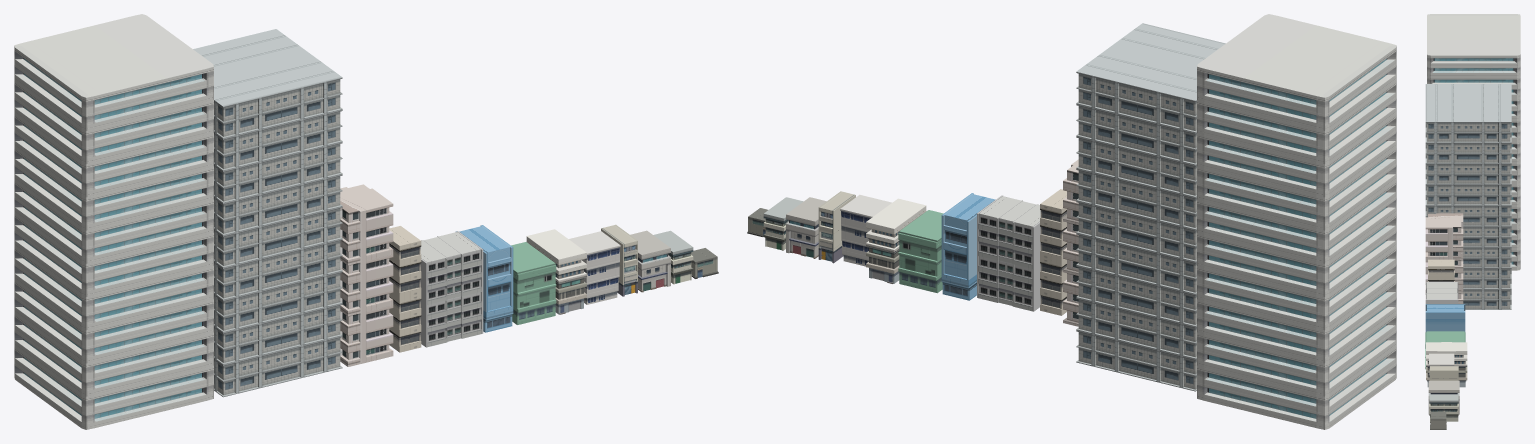
Rendered from Building_Asset_Pack_1.fbx.
3 views of the same model, side by side, from view 1: azimuth 30°, elevation 25°; view 2: azimuth 150°, elevation 25°; view 3: azimuth 270°, elevation 25° (orthographic). The views are drawn at different scales.
Parts seen in each view (by area): view 1: Building.001, Building.005, Building.002, Building.003, Building.006, Building.007, Building.004, Building.009, Building, Building.010, Cube, Building.011 (+1 smaller); view 2: Building.001, Building.005, Building.003, Building.007, Building.004, Building.006, Building.009, Building.002, Building, Building.010, Cube, Building.011; view 3: Building.005, Building.001, Building.002, Building.007, Building.009, Building.003, Building.011, Building.006, Building.010, Building.004, Cube, Building (+1 smaller).
Part boxes in pixels (<box>): Building.001: <box>14,14,213,429</box>; Building.005: <box>193,29,342,397</box>; Building.002: <box>340,184,393,366</box>; Building.003: <box>420,231,483,347</box>; Building.006: <box>389,226,421,352</box>; Building.007: <box>455,225,513,332</box>; Building.004: <box>511,242,556,324</box>; Building.009: <box>526,229,586,314</box>; Building: <box>569,231,620,304</box>; Building.010: <box>630,230,670,292</box>; Cube: <box>601,224,637,296</box>; Building.011: <box>653,230,693,284</box>; Building.001: <box>1197,14,1396,429</box>; Building.005: <box>1076,23,1225,391</box>; Building.003: <box>977,195,1040,311</box>; Building.007: <box>941,193,995,300</box>; Building.004: <box>898,210,943,293</box>; Building.006: <box>1040,189,1066,315</box>; Building.009: <box>866,198,926,283</box>; Building.002: <box>1063,159,1078,326</box>; Building: <box>840,194,891,266</box>; Building.010: <box>786,197,826,258</box>; Cube: <box>818,191,855,263</box>; Building.011: <box>763,197,803,250</box>; Building.005: <box>1425,84,1511,309</box>; Building.001: <box>1427,14,1520,270</box>; Building.002: <box>1425,213,1463,303</box>; Building.007: <box>1425,304,1465,332</box>; Building.009: <box>1426,342,1467,387</box>; Building.003: <box>1426,282,1458,303</box>; Building.011: <box>1429,394,1458,421</box>; Building.006: <box>1428,259,1454,281</box>; Building.010: <box>1428,380,1459,414</box>; Building.004: <box>1425,331,1465,369</box>; Cube: <box>1430,366,1458,380</box>; Building: <box>1429,353,1454,380</box>.
Bounding box in the file's own units: 15812 × 7892 × 3172.
